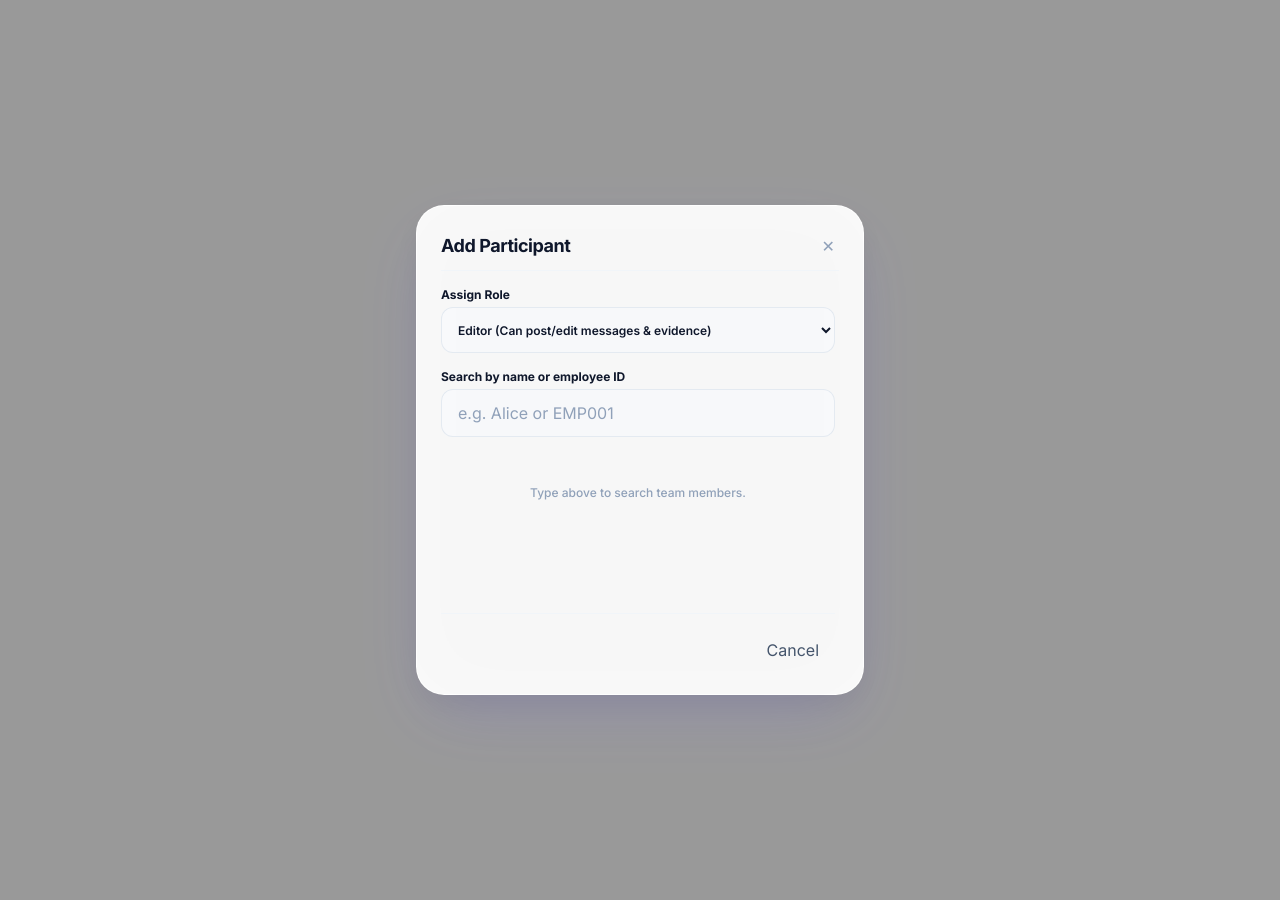
Test: AddParticipantModal — add action › shows add error when updateParticipants fails
Type "Bob" into the field labelled "Search by name or employee ID".
click(638, 413); type("Bob")  # box [441, 389, 835, 437]
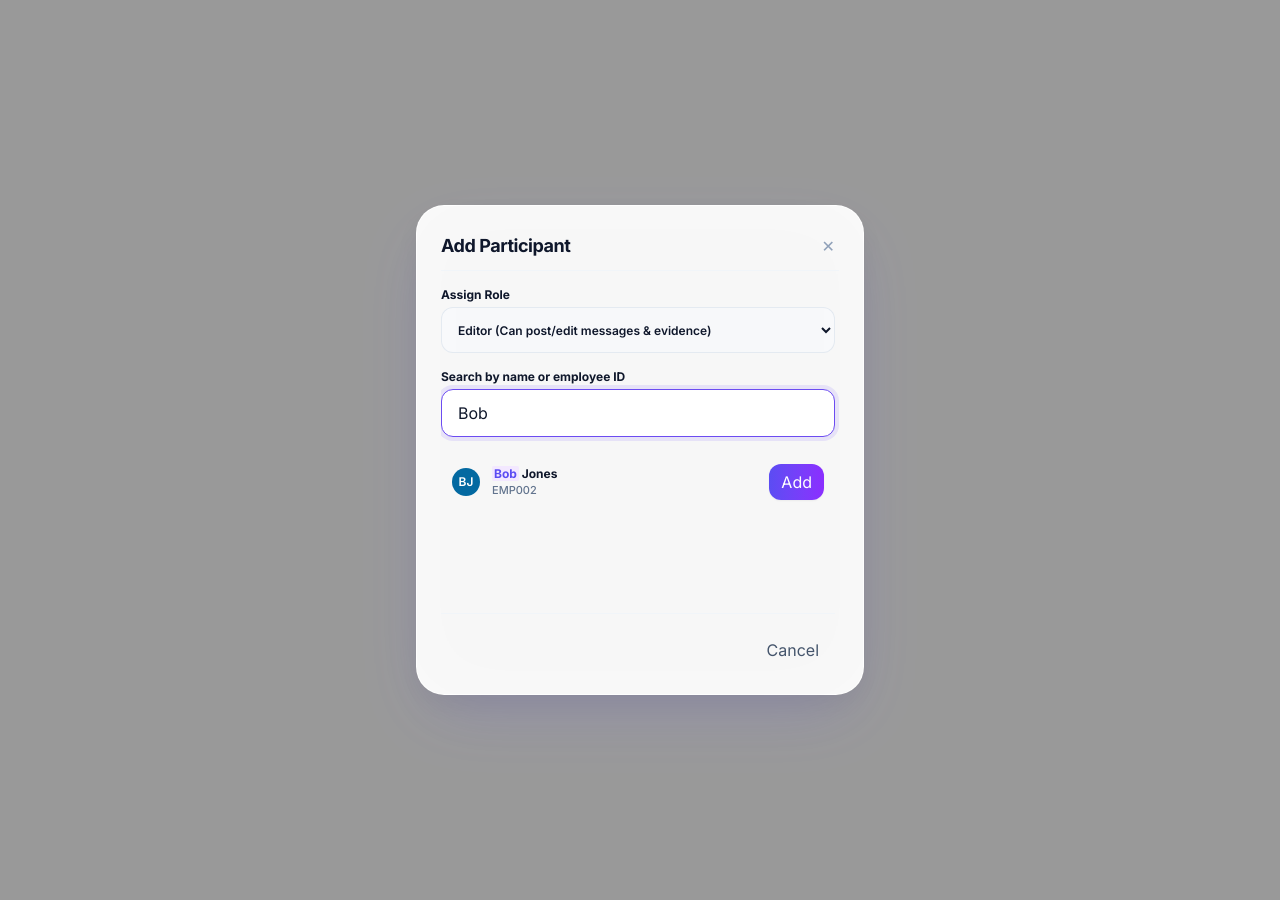
Expected: the text titled "Bob Jones" is shown, [452, 468, 480, 496]
Click the button with aria-label "add bob jones".
click(797, 482)  # box [769, 464, 824, 500]
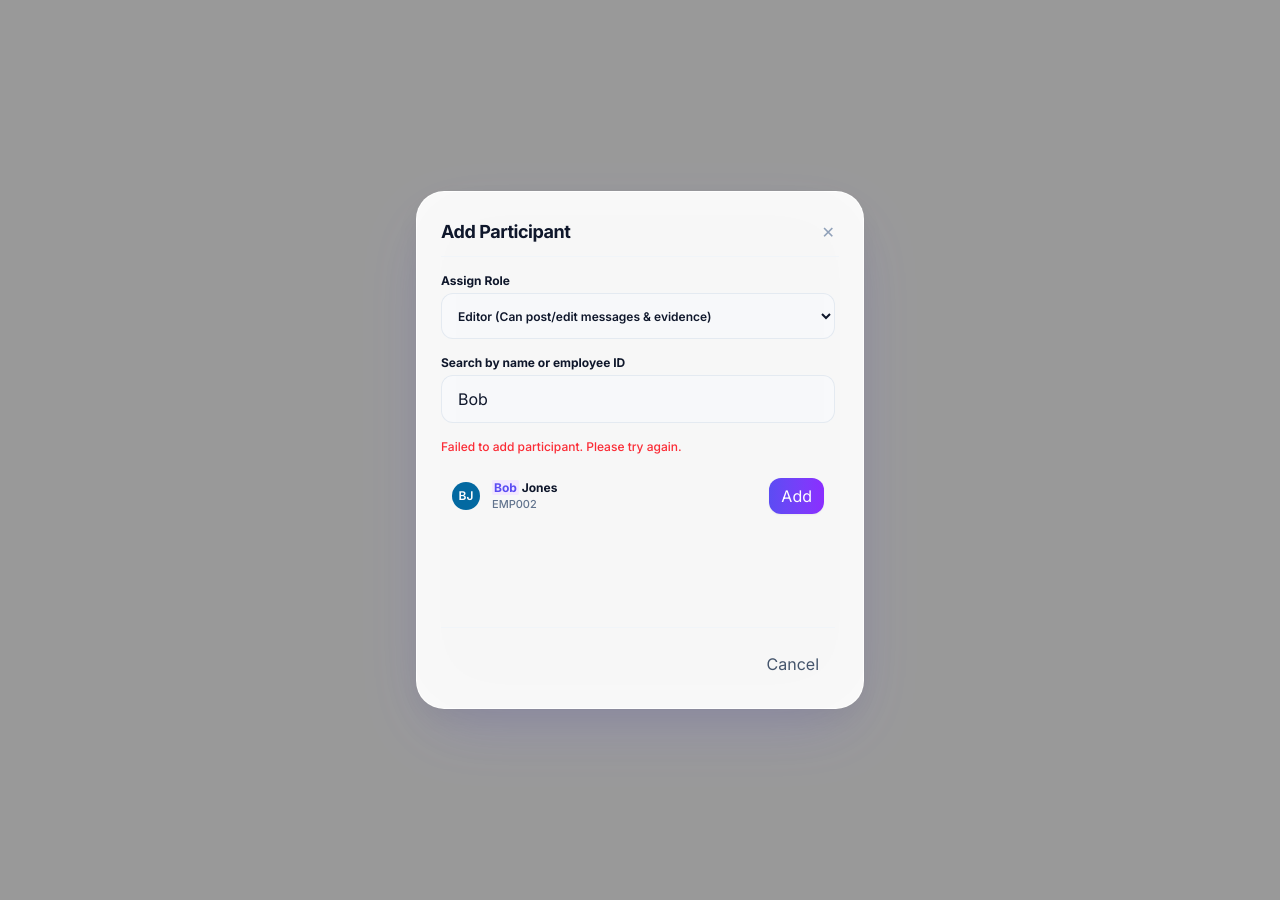
Expected: the text "Failed to add participant. Please try again." is shown, [441, 439, 682, 454]
